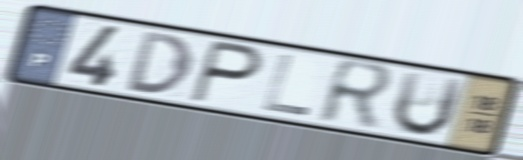4: (65, 22, 121, 90)
D: (125, 28, 195, 97)
L: (260, 51, 312, 119)
P: (186, 37, 266, 107)
R: (314, 55, 398, 134)
U: (389, 68, 469, 138)
